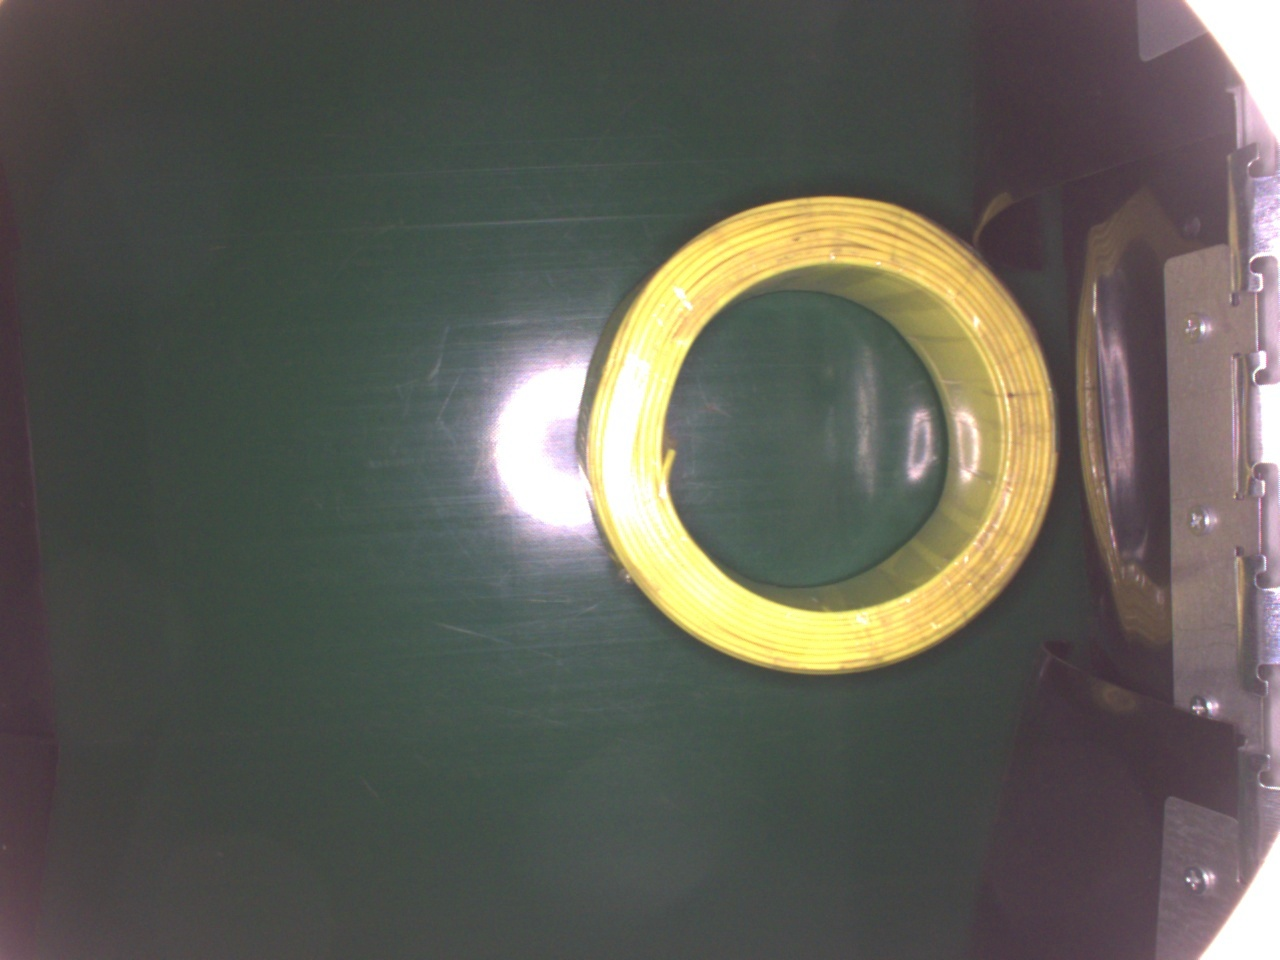yellow: (579, 192, 1055, 678)
